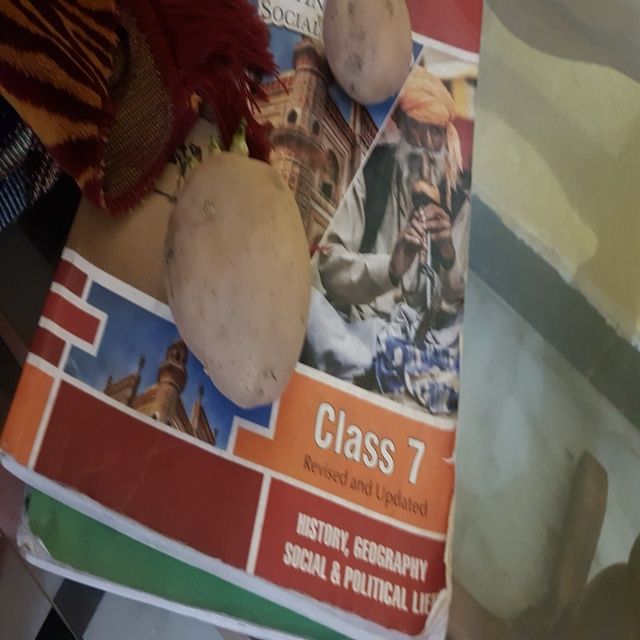potato: (163, 150, 318, 408)
